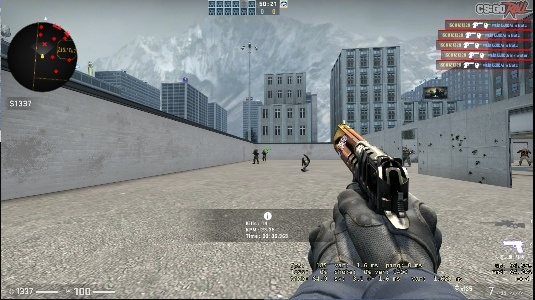body: (518, 147, 531, 168), (402, 147, 412, 167), (252, 148, 260, 163), (262, 150, 267, 162)
head: (404, 146, 408, 151), (254, 148, 258, 152), (523, 147, 527, 151), (263, 149, 265, 153)
